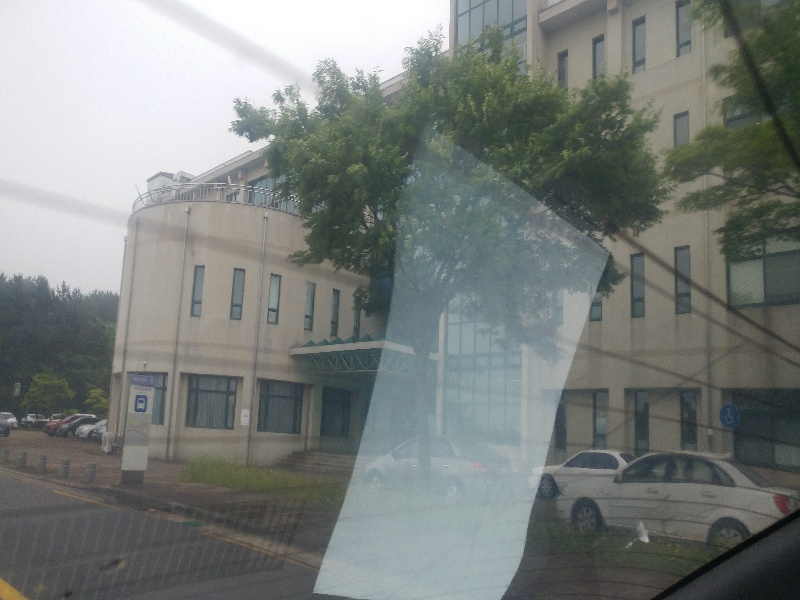College of Medicine: (172, 11, 797, 431), (111, 165, 362, 470)
